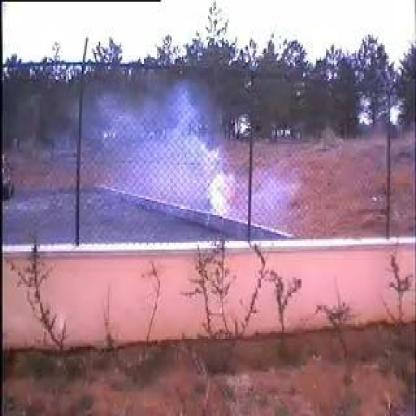-: (73, 80, 248, 242)
